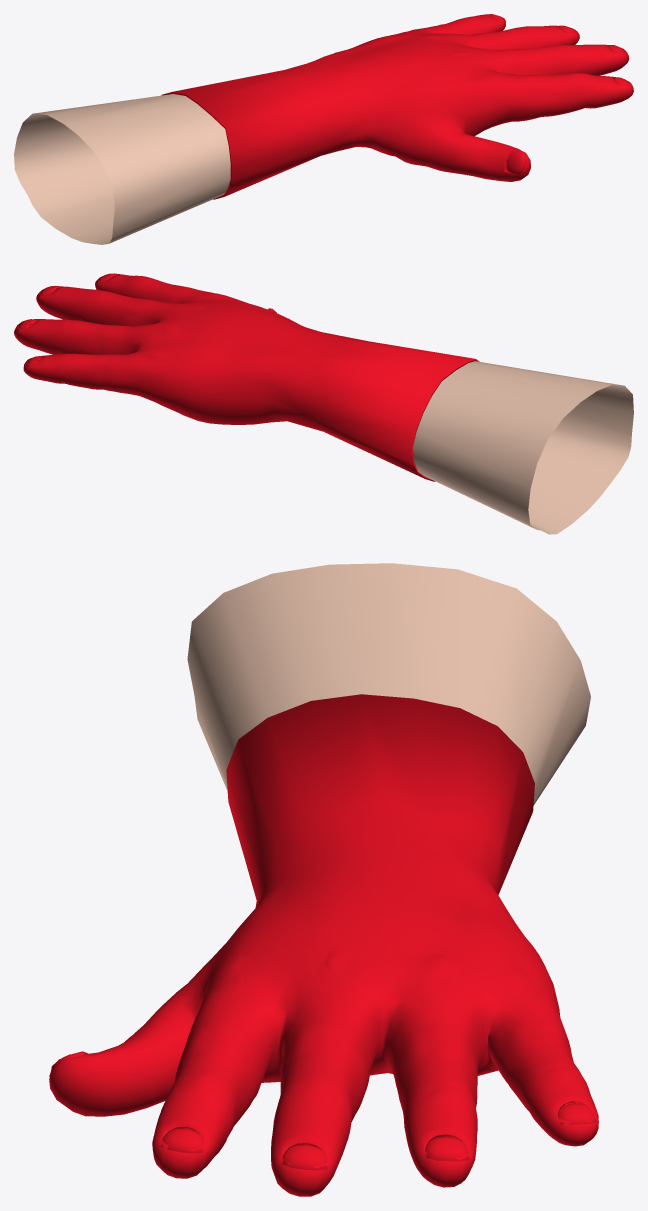
Rendered from Hand 1.fbx.
The picture shows the model from 3 angles, top to bottom: view 1: azimuth 30°, elevation 25°; view 2: azimuth 150°, elevation 25°; view 3: azimuth 270°, elevation 25°; orthographic projection. The views are drawn at different scales.
Visible parts, largest first — view 1: hand.002, hand; view 2: hand.002, hand; view 3: hand.002, hand.
Boxes of the visible parts, x1=… form: hand.002: x1=161, y1=14, x2=633, y2=199; hand: x1=14, y1=94, x2=230, y2=244; hand.002: x1=14, y1=273, x2=479, y2=481; hand: x1=412, y1=361, x2=633, y2=534; hand.002: x1=49, y1=694, x2=598, y2=1196; hand: x1=187, y1=563, x2=590, y2=805.
Bounding box in the file's own units: 51.45 × 10.04 × 22.61.
